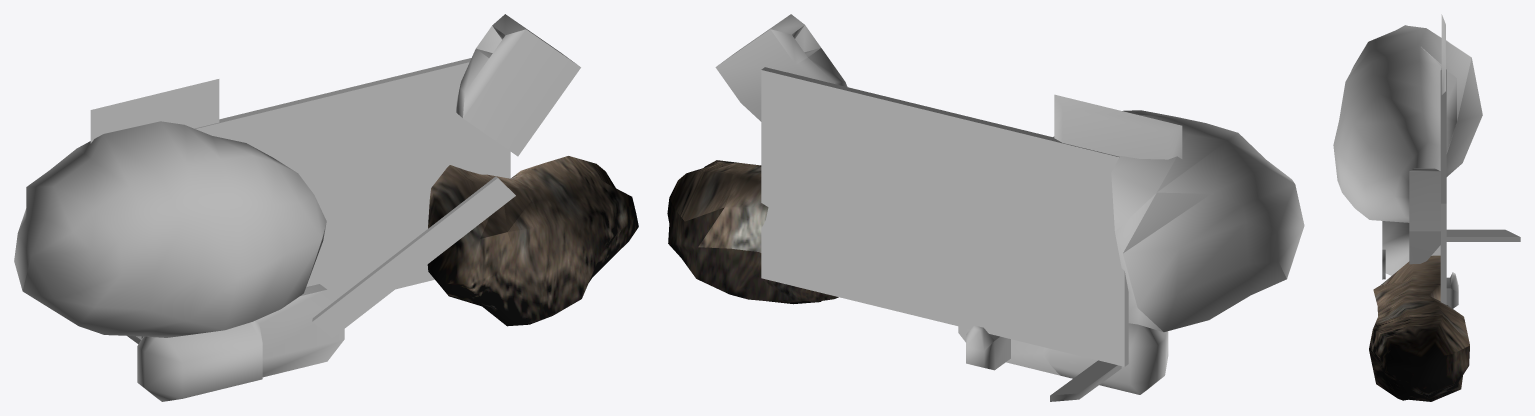
Rendered from ss307_static.obj.
3 views of the same model, side by side, from view 1: azimuth 30°, elevation 25°; view 2: azimuth 150°, elevation 25°; view 3: azimuth 270°, elevation 25° (orthographic). The views are drawn at different scales.
Visible parts, largest first — view 1: frm-sphere6, frm-cube1, frm-sphere6_1, frm-cube7, frm-cube3, frm-cube11, frm-cube4; view 2: frm-cube1, frm-sphere6, frm-sphere6_1, frm-cube4, frm-cube3, frm-cube7, frm-cube14, frm-cube5; view 3: frm-sphere6, frm-sphere6_1, frm-cube3, frm-cube1, frm-cube7, frm-cube5, frm-cube14, frm-cube4.
Boxes of the visible parts, <box> form: frm-sphere6: <box>14,121,326,337</box>; frm-cube1: <box>141,58,510,338</box>; frm-sphere6_1: <box>427,156,638,326</box>; frm-cube7: <box>137,284,344,401</box>; frm-cube3: <box>456,14,580,156</box>; frm-cube11: <box>312,176,515,338</box>; frm-cube4: <box>90,79,219,143</box>; frm-cube1: <box>761,67,1128,366</box>; frm-sphere6: <box>1053,110,1304,331</box>; frm-sphere6_1: <box>667,160,838,304</box>; frm-cube4: <box>1054,94,1182,159</box>; frm-cube3: <box>715,14,847,121</box>; frm-cube7: <box>958,323,1168,394</box>; frm-cube14: <box>966,325,1010,370</box>; frm-cube5: <box>1050,360,1121,401</box>; frm-sphere6: <box>1333,25,1482,222</box>; frm-sphere6_1: <box>1369,255,1469,401</box>; frm-cube3: <box>1409,168,1440,264</box>; frm-cube1: <box>1440,68,1446,304</box>; frm-cube7: <box>1382,221,1440,275</box>; frm-cube5: <box>1446,229,1520,241</box>; frm-cube14: <box>1446,272,1458,308</box>; frm-cube4: <box>1441,14,1445,94</box>.
Bounding box in the file's own units: 112 × 52.05 × 38.85.
